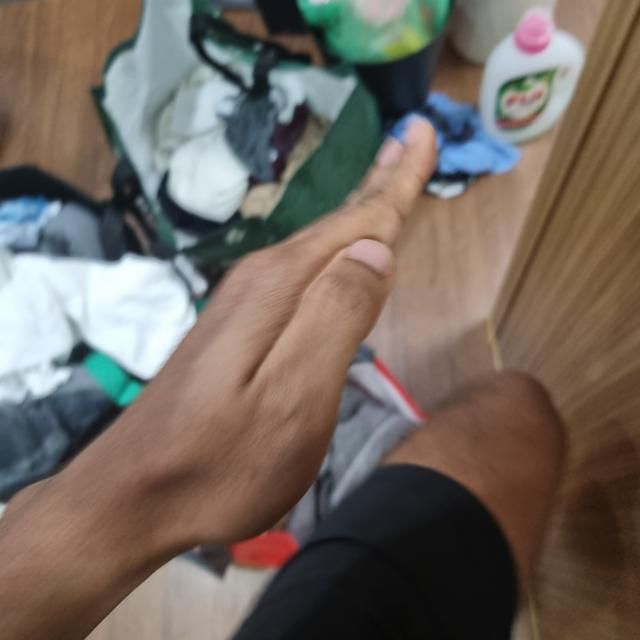Paper: (91, 123, 437, 551)
